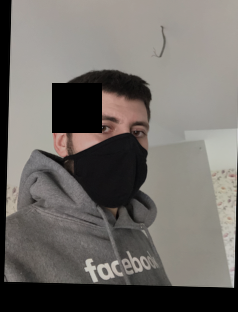with_mask: (71, 102, 148, 207)
